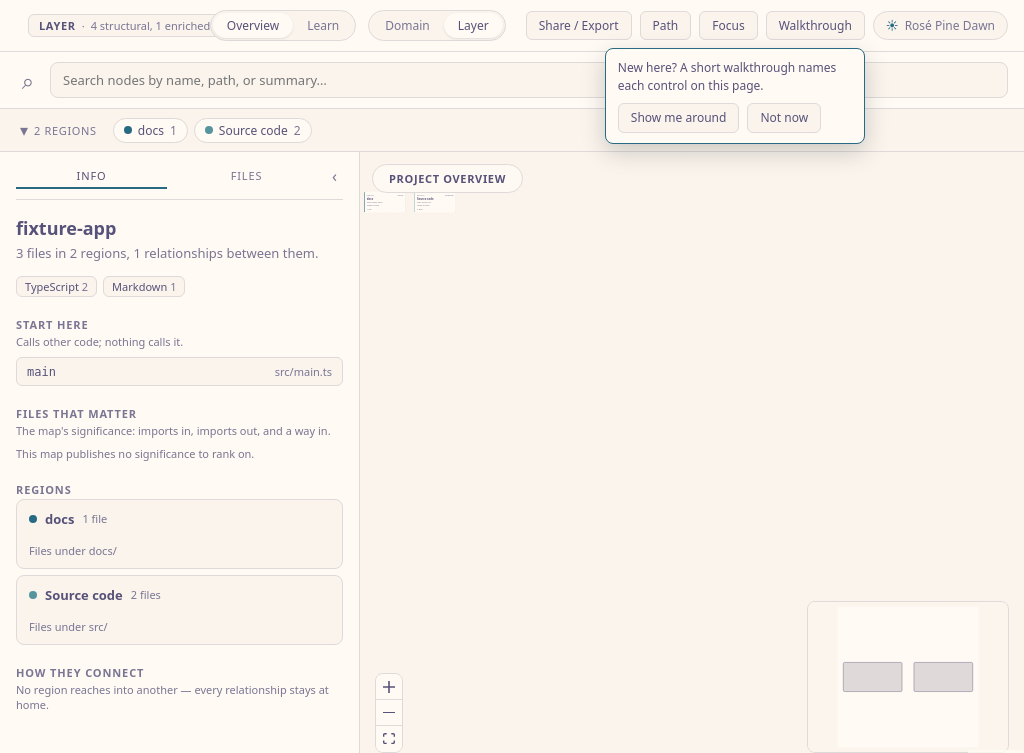
Test: node detail › shows summary, edges, line range, and provenance badge for a selected node
In the search field labelled "Search nodes": (529, 80) [50,62,1008,98], type "main"
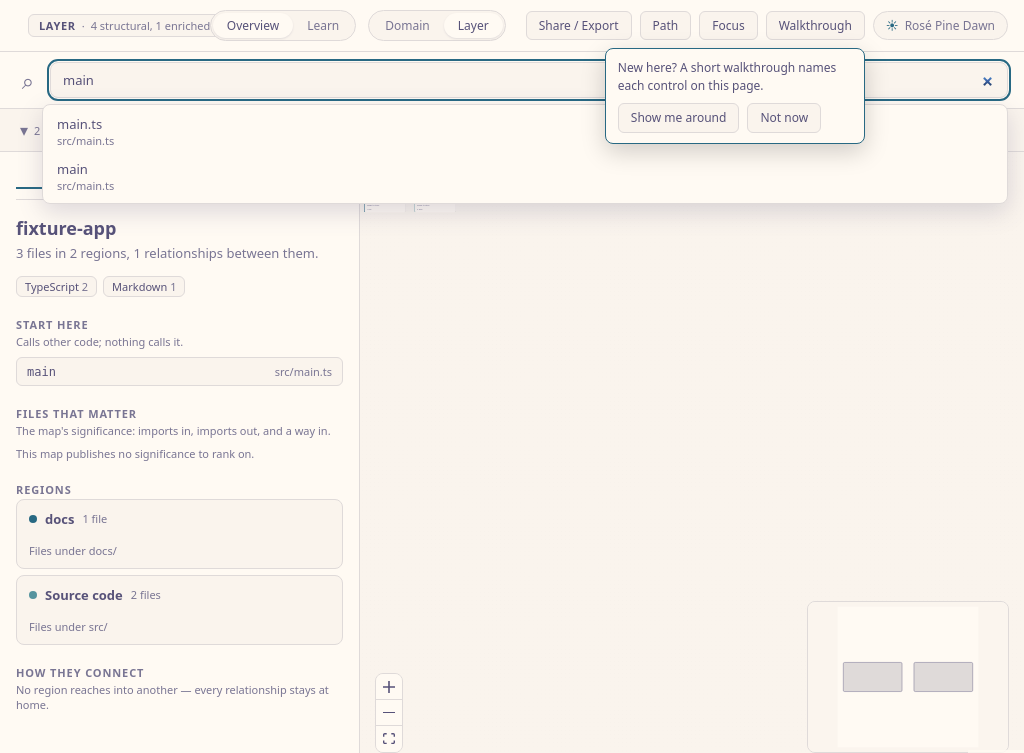
Click the 1st text "main": (72, 169) [57,160,88,178]
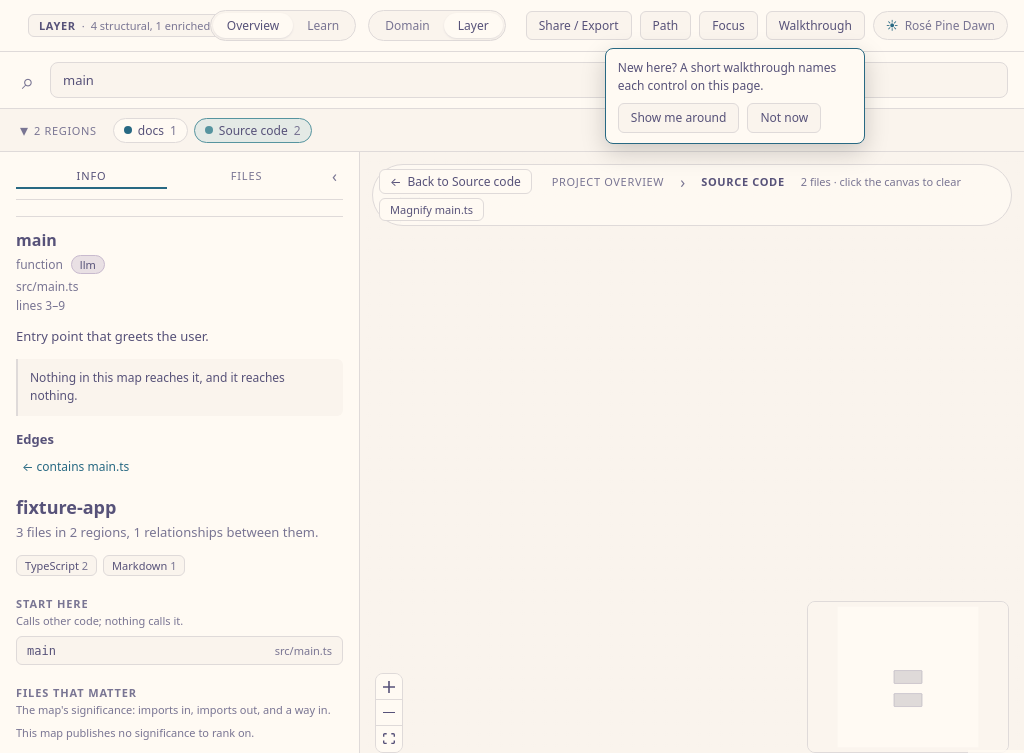
Expected: the heading "main" is shown, [16,229,57,251]
Expected: the text "Entry point that greets the user." is shown, [16,327,209,345]
Expected: the text "lines 3–9" is shown, [16,297,65,314]
